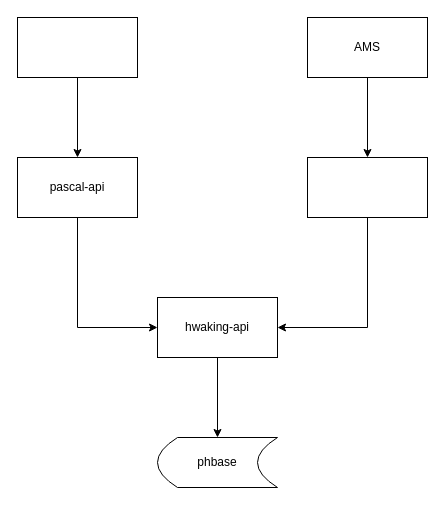
Some shapes in this 445 by 505 pixel diagram are drawn without their labels. Each missing label, with the box of its shape:
BAPP: (16, 16, 138, 78)
mikasa: (306, 156, 428, 218)
